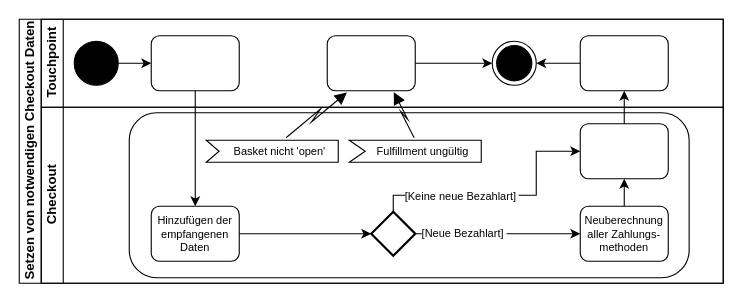
This 741x301 diagram has some shape labels left out. The shapes that lost their labels are listed below. From the top down, each one's centre as x and y in pixels, then its label:
At pixel 194 63: "Bsp: Kunde setzt Daten im Onlineshop".
At pixel 370 63: "Verarbeitung des Fehlercodes".
At pixel 623 63: "Anzeigen des aktualisierten Baskets".
At pixel 623 151: "Persisiterung der Änderungen".
